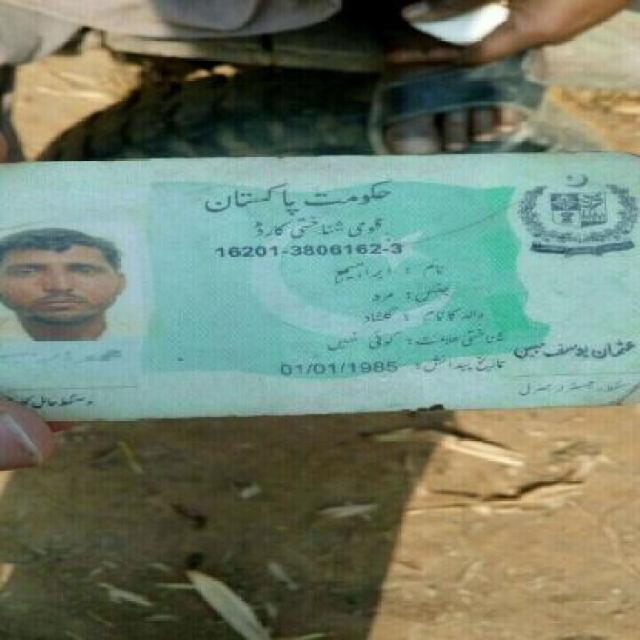Front: (11, 145, 626, 417)
